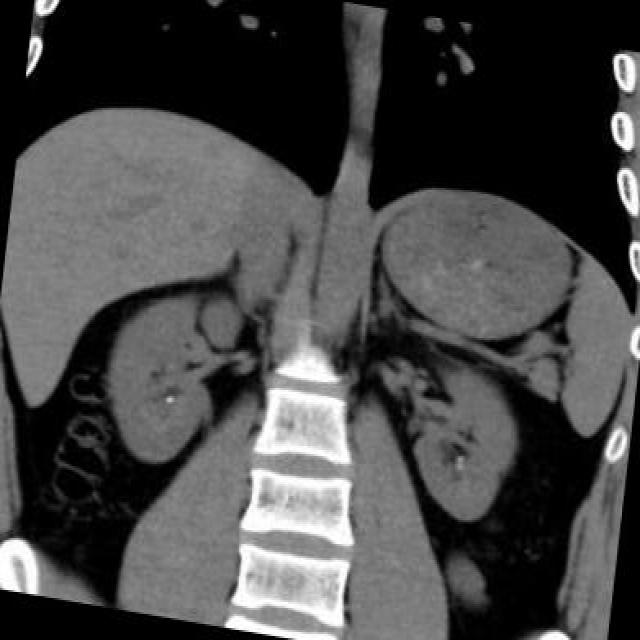Tas_Var: (161, 392, 176, 406), (454, 454, 464, 462), (454, 461, 462, 469)
